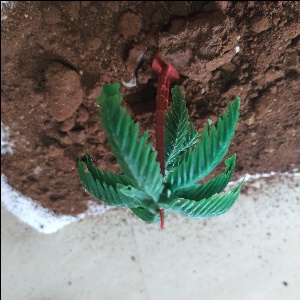plant: (75, 52, 244, 230)
